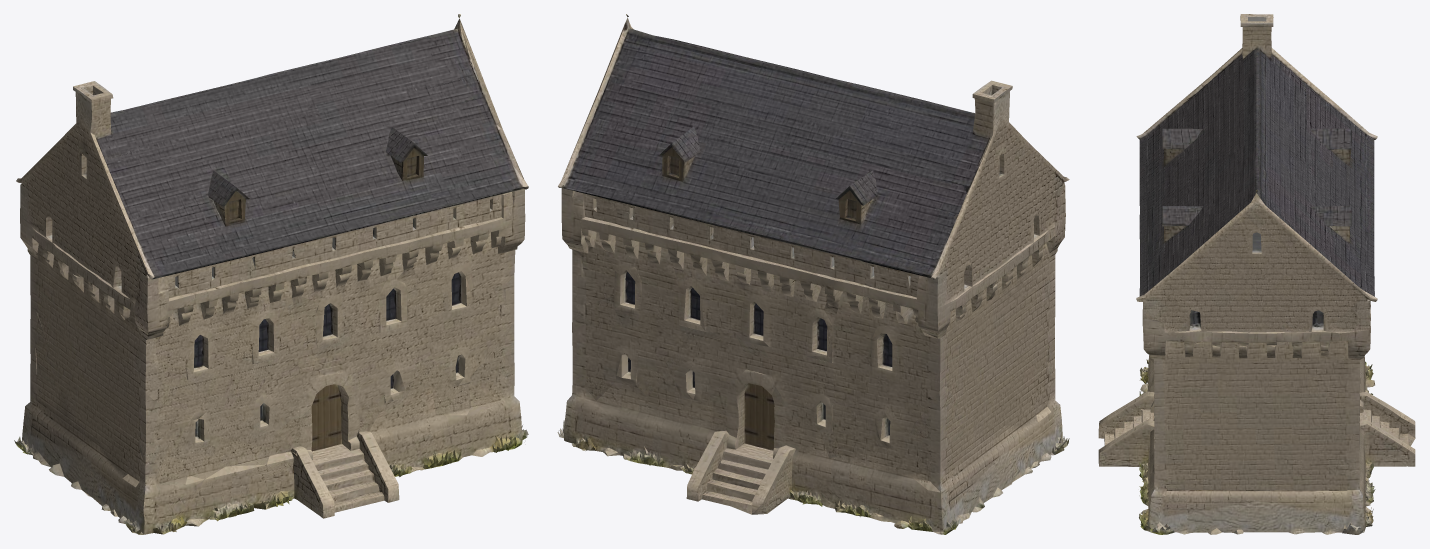
The model's file is keep_stonehall.glb.
3 renders of one model, left to right at view 1: azimuth 30°, elevation 25°; view 2: azimuth 150°, elevation 25°; view 3: azimuth 270°, elevation 25°, orthographic. The views are drawn at different scales.
Visible parts, largest first — view 1: keep_stonehall; view 2: keep_stonehall; view 3: keep_stonehall.
Boxes of the visible parts, <box> form: keep_stonehall: <box>14,14,528,534</box>; keep_stonehall: <box>557,14,1069,534</box>; keep_stonehall: <box>1098,14,1415,534</box>.
Bounding box in the file's own units: 1.9 × 1.82 × 1.48.
Materials: 1 (1 with a texture image).
